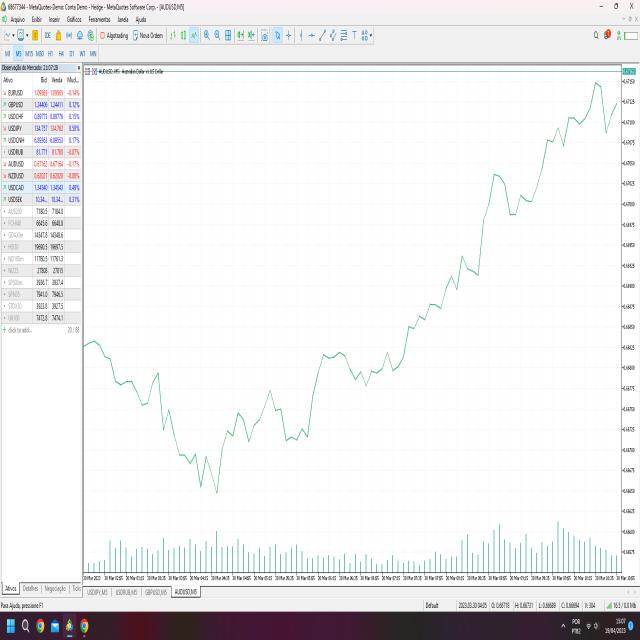fundo_duplo: (185, 435, 232, 512)
